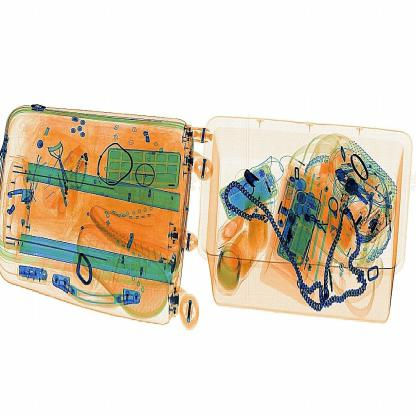pliers: (238, 156, 270, 196)
